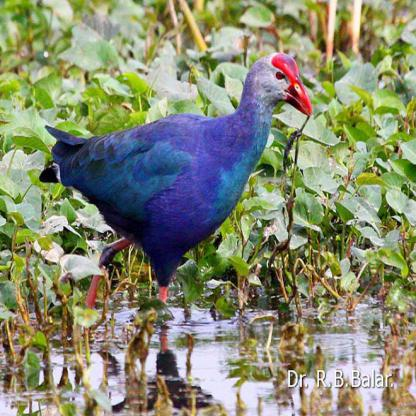Burung: (41, 47, 314, 343)
